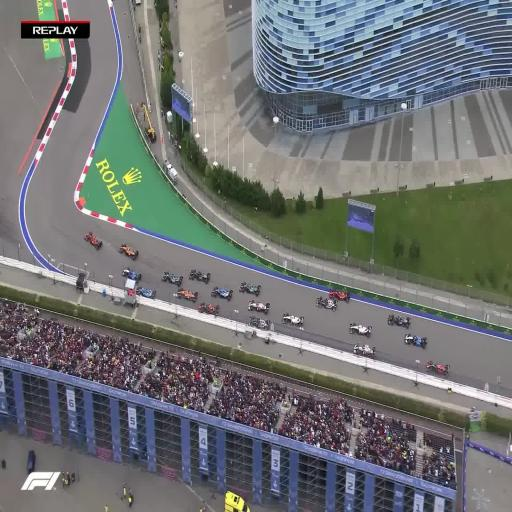f1_car: (387, 313, 410, 328), (404, 333, 427, 348), (426, 360, 450, 374), (239, 281, 261, 296), (211, 286, 233, 301), (84, 231, 102, 249), (118, 244, 138, 260), (198, 302, 220, 316), (349, 323, 371, 337), (176, 288, 198, 302), (282, 312, 304, 326), (316, 297, 338, 311), (353, 344, 376, 357), (162, 271, 183, 285), (189, 269, 210, 283), (122, 267, 141, 282), (247, 301, 270, 313), (329, 289, 350, 302), (249, 317, 270, 329), (136, 287, 156, 298)
